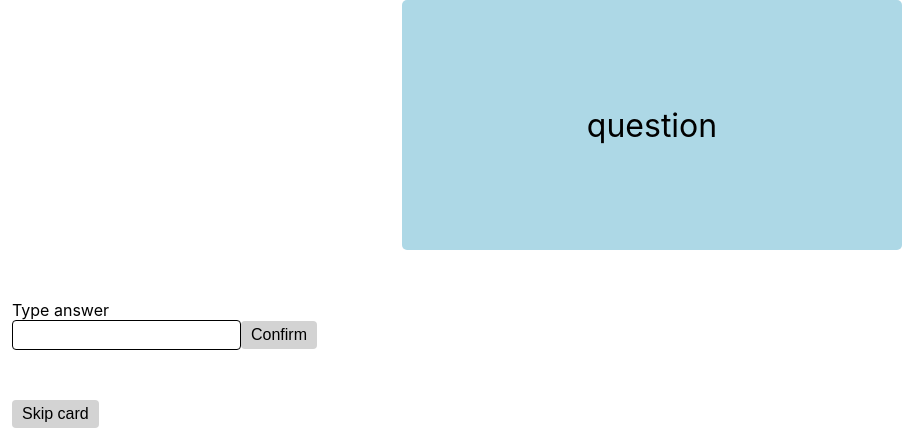
Test case: AppPracticing › correctly renders card when correct answer given
In the field: (126, 335) [12,320,241,350], type "answer"
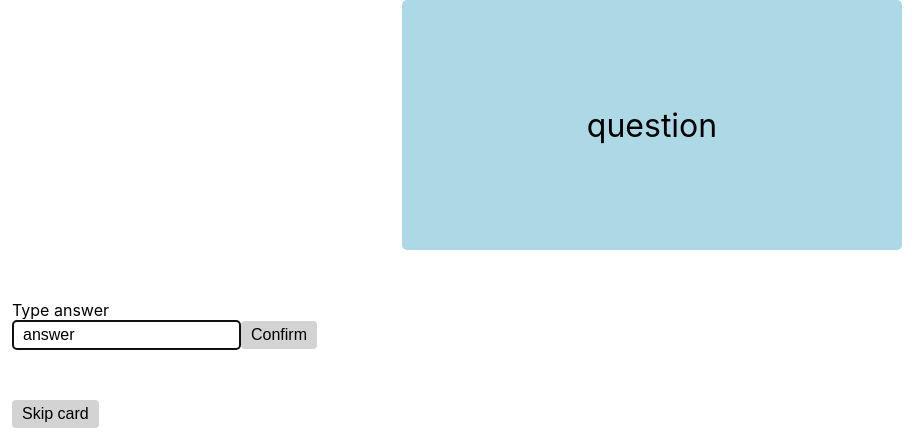
Click the button "Confirm": (279, 335) [241,321,317,349]
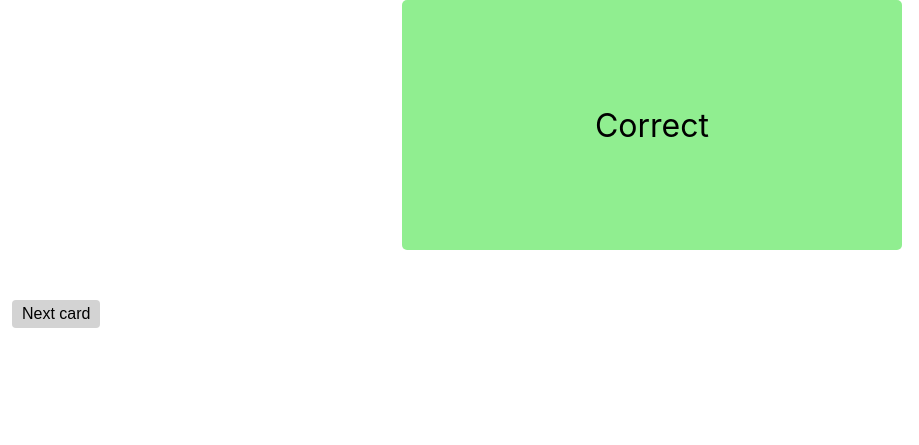
expect the text "Correct" is shown: met, box [402,0,902,250]
